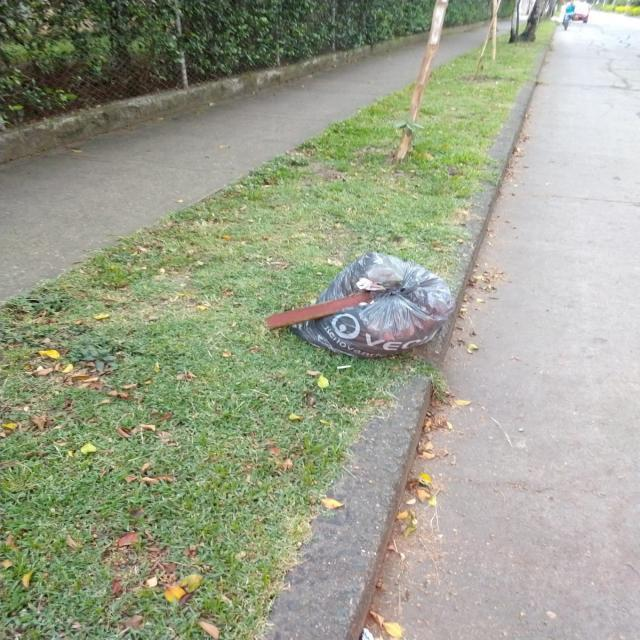Trashbag: (292, 238, 455, 368)
